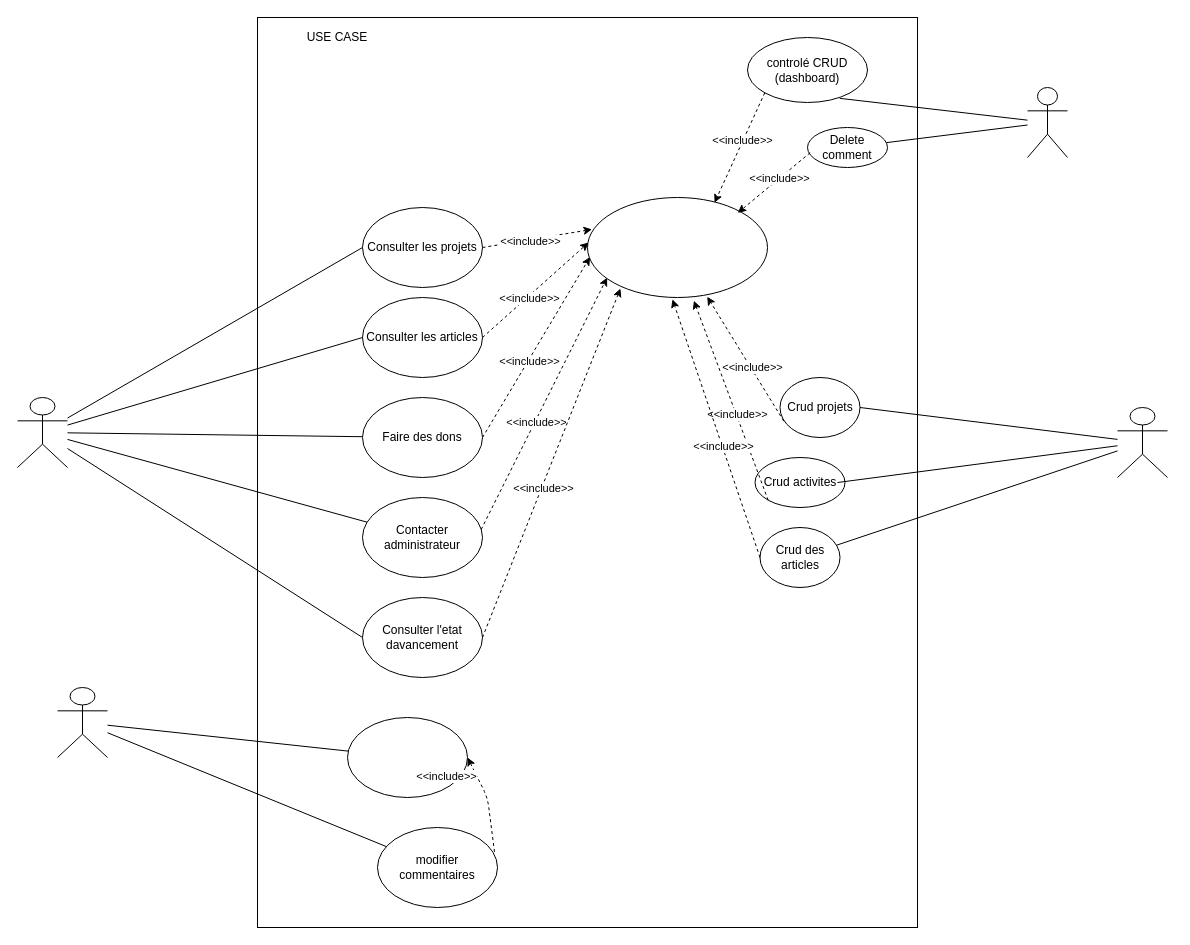
Some shapes in this 1190 by 945 pixel diagram are drawn without their labels. Here are the shapes that lost their labels. From the top down, the centre of each, then its label:
At (1047,122): "admin".
At (677,247): "Authentification".
At (42,432): "Donneur".
At (1142,442): "Association".
At (82,722): "Visiteur".
At (407,757): "ajouté commentaires".
